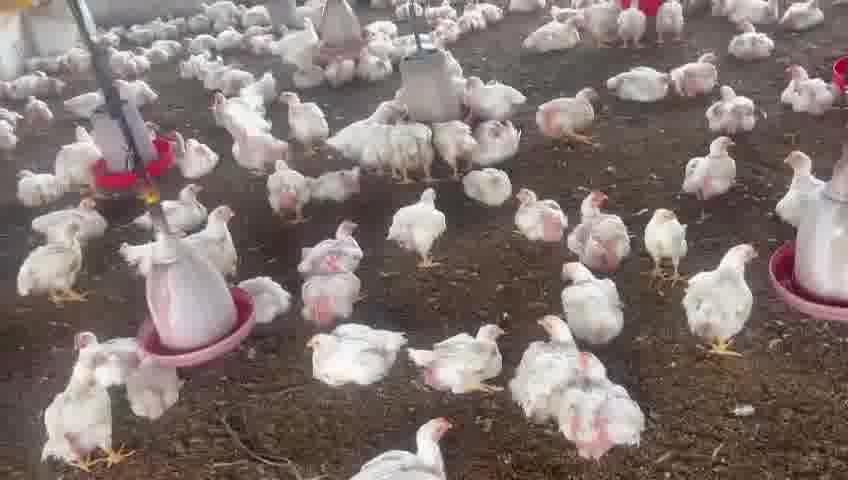AbNormal: (315, 152, 372, 205)
Normal: (36, 358, 128, 472), (678, 241, 759, 366), (554, 355, 643, 459), (411, 320, 508, 396), (305, 326, 413, 388), (20, 222, 90, 302), (393, 186, 459, 268), (556, 266, 629, 340), (519, 314, 566, 419), (685, 135, 749, 209), (565, 189, 624, 264), (529, 88, 601, 149), (305, 214, 374, 276), (640, 201, 699, 273), (507, 184, 570, 249), (34, 185, 109, 239), (302, 259, 368, 320), (276, 89, 344, 146), (706, 75, 763, 141), (389, 118, 444, 185), (773, 52, 834, 110), (464, 74, 536, 120), (264, 159, 313, 221), (456, 159, 518, 206), (210, 92, 271, 135), (611, 64, 684, 99), (193, 209, 246, 256), (233, 126, 289, 166), (732, 18, 782, 60), (160, 183, 206, 225), (174, 135, 219, 170)
